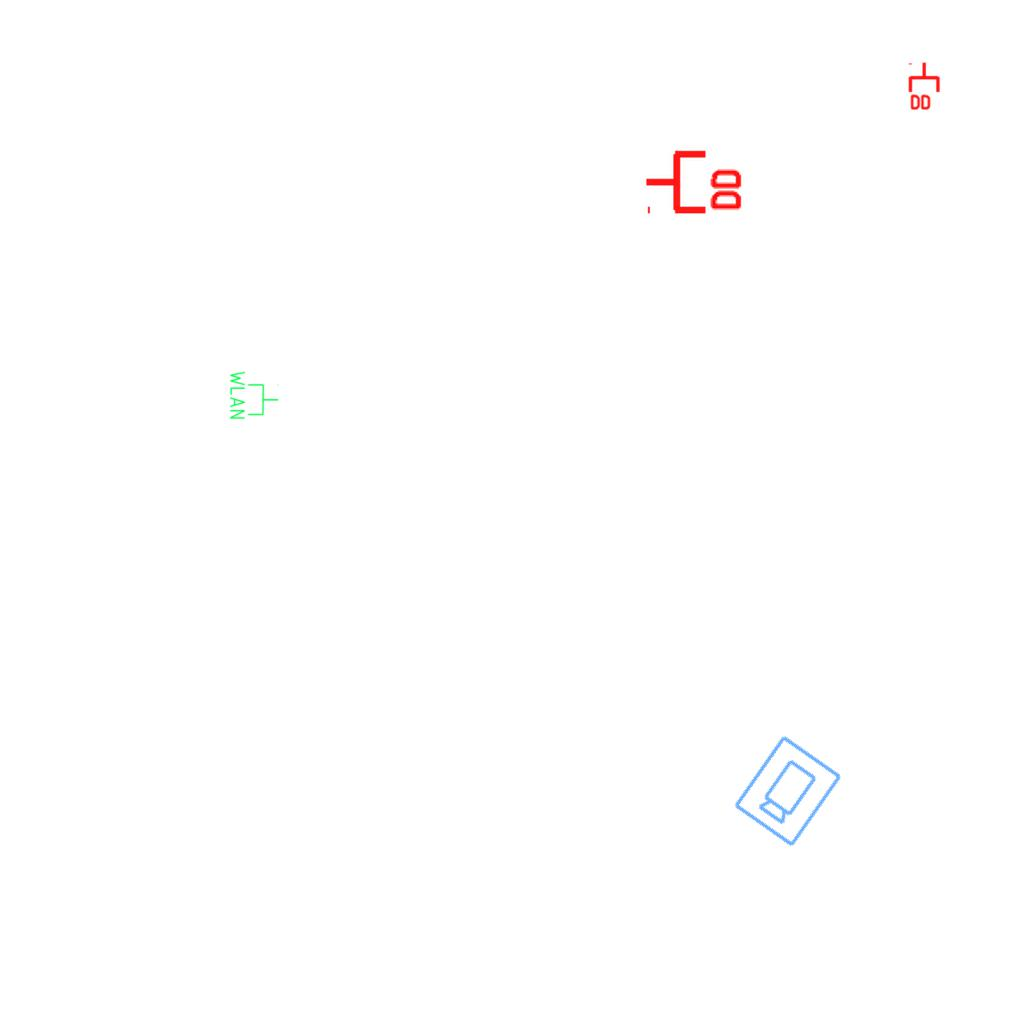Datenanschluss_zweifach: (643, 146, 746, 215), (908, 61, 942, 112)
KFO_Kamera_mit_Festobjektiv: (729, 731, 846, 850)
WLAN: (228, 369, 280, 421)
